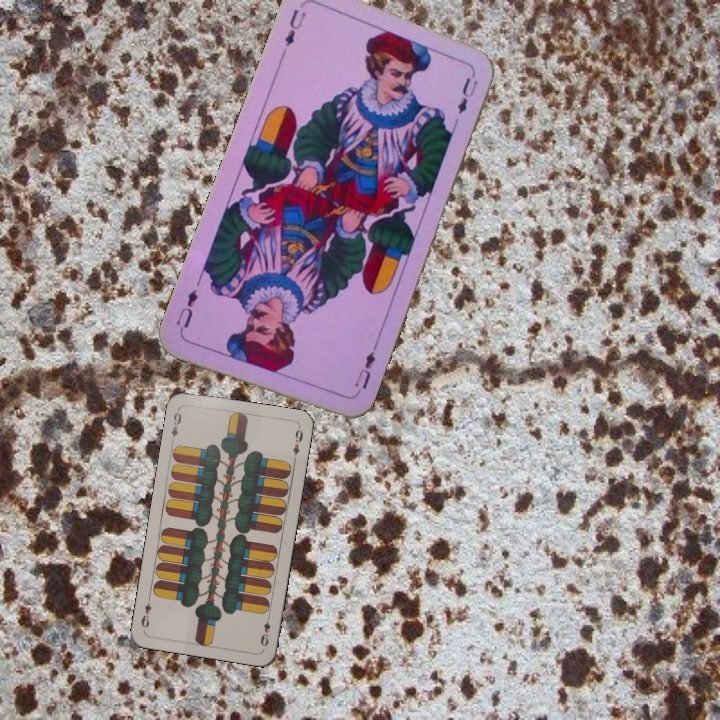E9: (167, 405, 184, 445), (256, 611, 273, 649)
EU: (350, 342, 380, 399), (280, 5, 309, 49)
